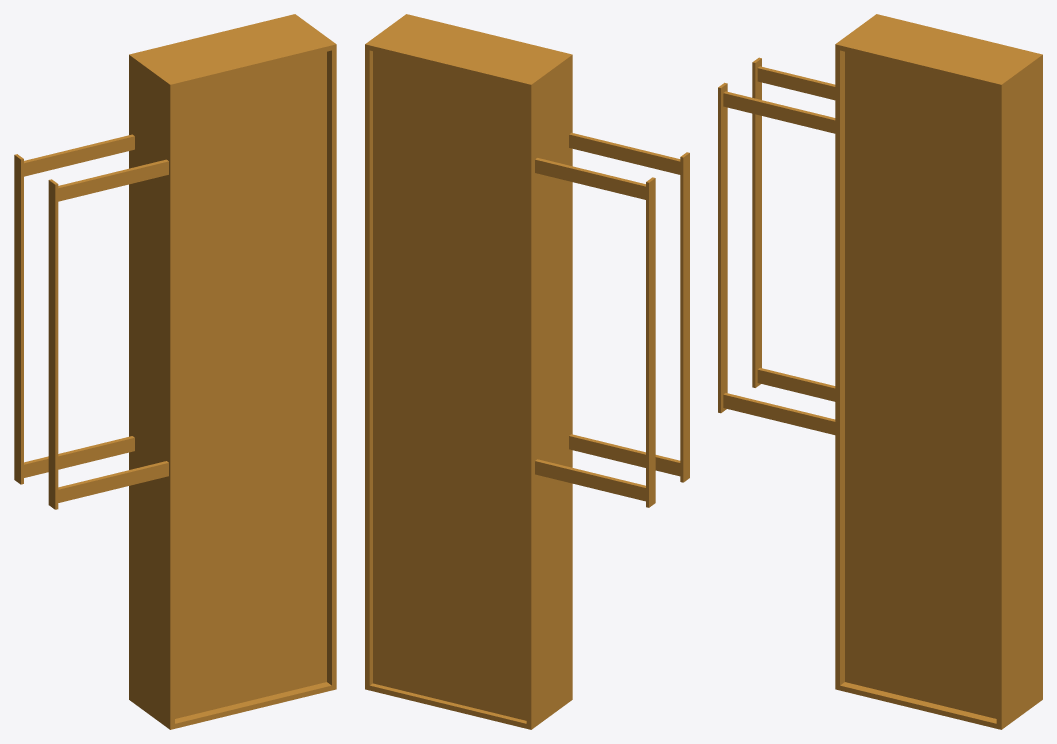
The model's file is SM_sign_japan_04.fbx.
3 renders of one model, left to right at view 1: azimuth 30°, elevation 25°; view 2: azimuth 150°, elevation 25°; view 3: azimuth 330°, elevation 25°, orthographic.
Visible parts, largest first — view 1: Box024; view 2: Box024; view 3: Box024.
Boxes of the visible parts, bbox=[...] form: Box024: bbox=[14, 14, 336, 729]; Box024: bbox=[365, 14, 689, 729]; Box024: bbox=[718, 14, 1042, 729].
Size of the model in its own units: 55.87 by 14.55 by 122.
